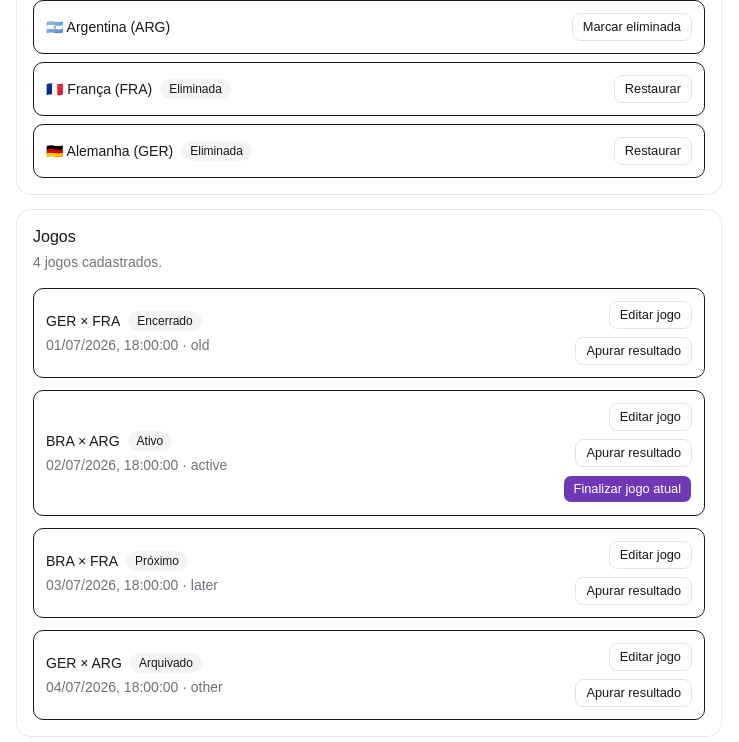
Test: AdminMatchesPage › edits kickoff and teams while keeping the match ID immutable
The width and height of the screenshot is (739, 742).
(page scrolled)
Click the 2nd button "Editar jogo" at (650, 417), box [609, 403, 692, 431]
(page scrolled)
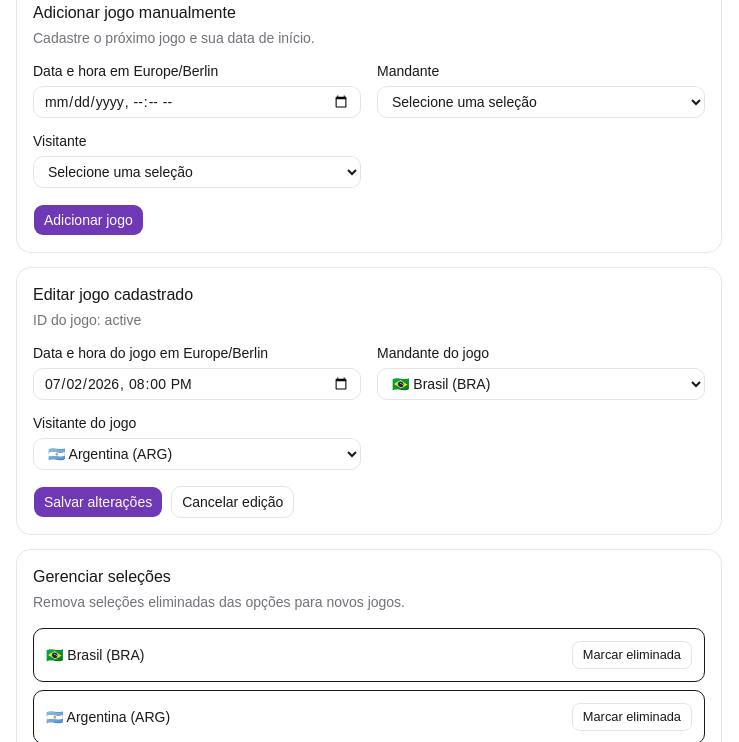
Expected: the text "ID do jogo: active" is shown, [33, 312, 141, 328]
Expected: the field labelled "Data e hora do jogo em Europe/Berlin" holds "2026-07-02T20:00"
Replace the text in the field labelled "Data e hora do jogo em Europe/Berlin" with "2026-07-05T18:30" at (197, 384), box [33, 368, 361, 400]
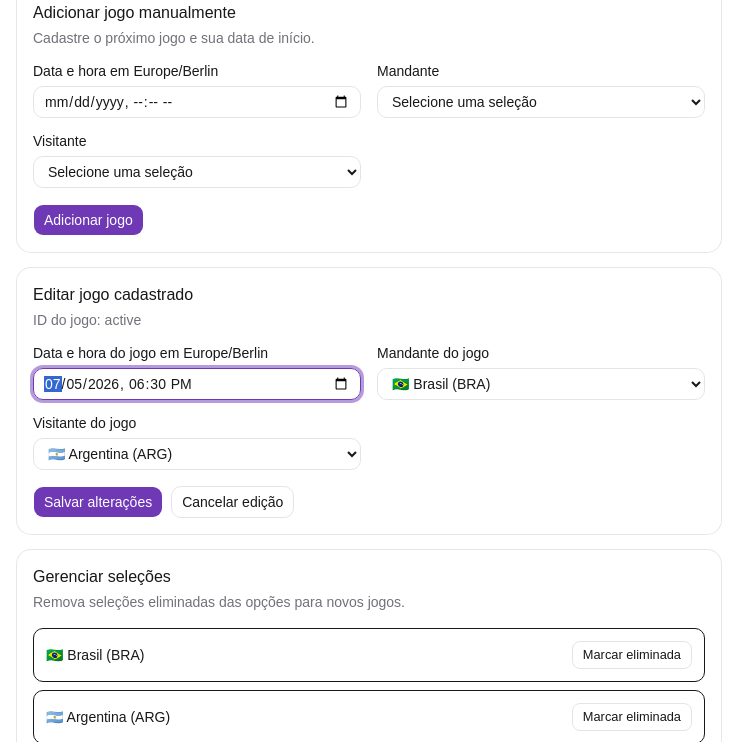
Expected: the option "🇫🇷 França (FRA)" is not shown
Select "Selecione uma seleção" in the dropdown labelled "Visitante do jogo" at (197, 454), box [33, 438, 361, 470]
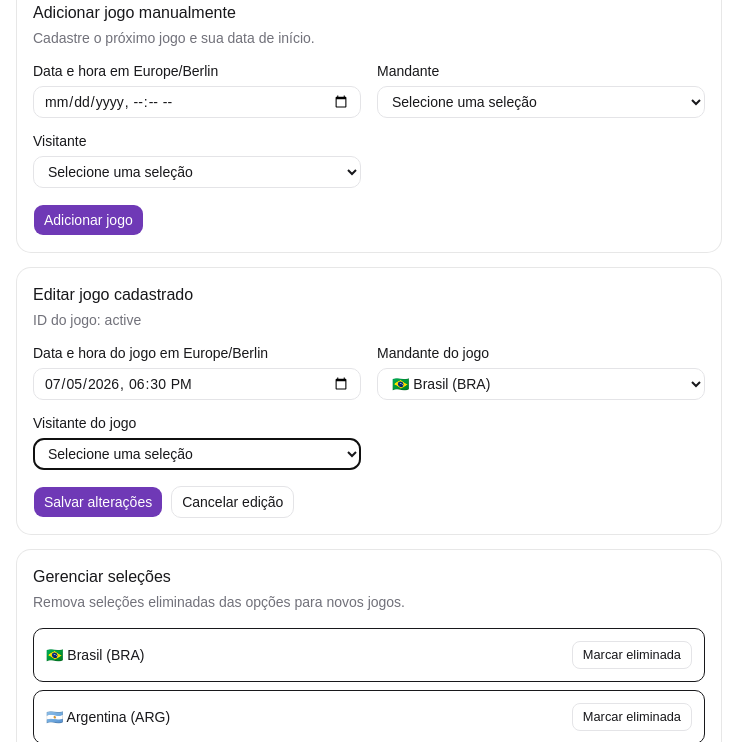
Select "🇦🇷 Argentina (ARG)" in the dropdown labelled "Mandante do jogo" at (541, 384), box [377, 368, 705, 400]
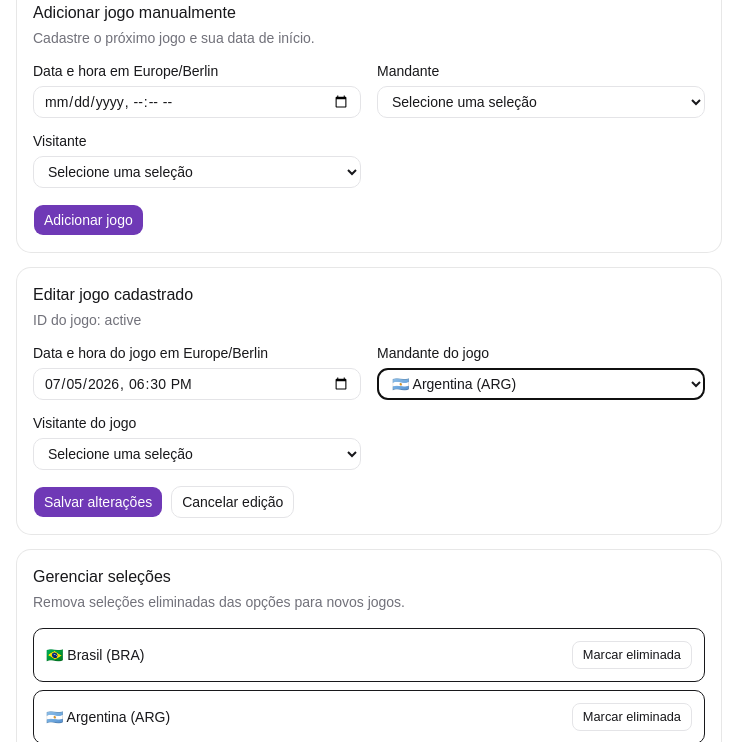
Select "🇧🇷 Brasil (BRA)" in the dropdown labelled "Visitante do jogo" at (197, 454), box [33, 438, 361, 470]
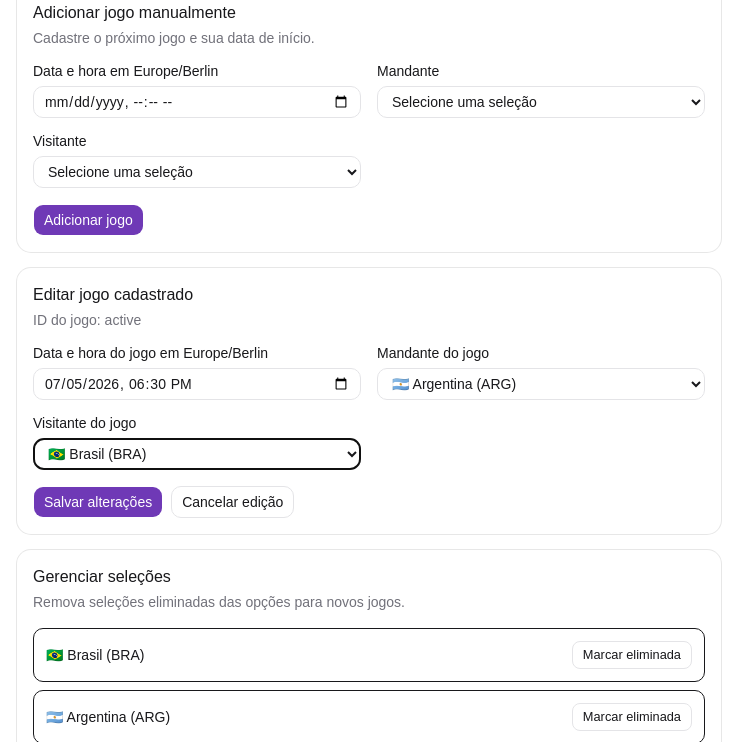
Click the button "Salvar alterações" at (98, 502), box [33, 486, 163, 518]
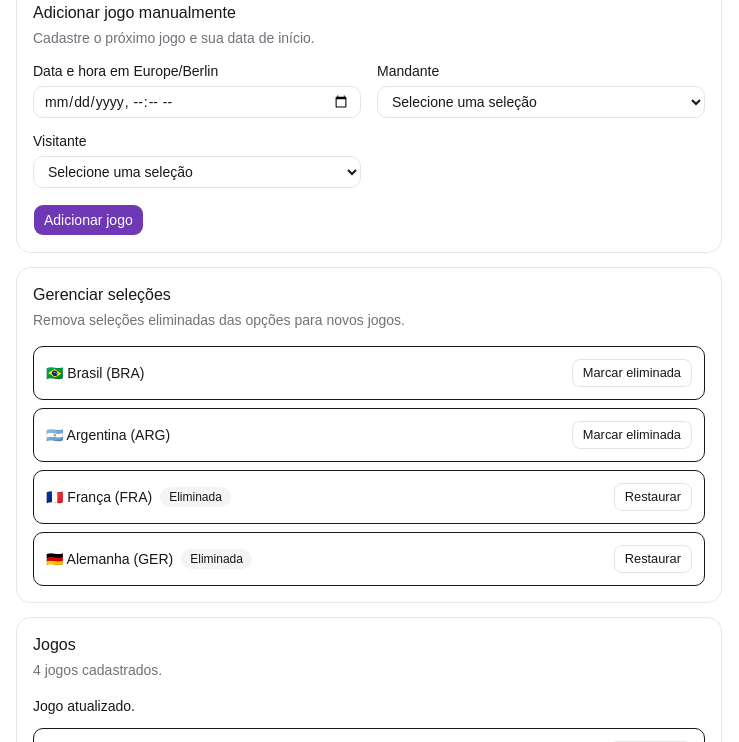
Expected: the text "Jogo atualizado." is shown, [33, 698, 135, 714]
